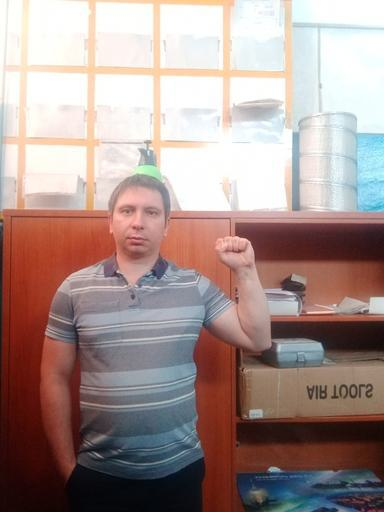fist: (211, 232, 260, 276)
